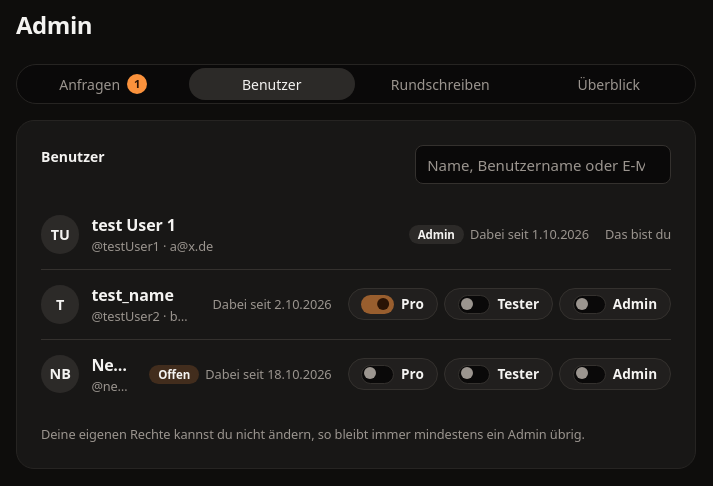
admin panel › makes someone a tester without asking
The width and height of the screenshot is (713, 486).
What coordinates should you click on to do the following:
click the switch labelled "Tester" in the row of "test_name"
I would click on:
 (498, 304)
Its box is [444,288,553,320].
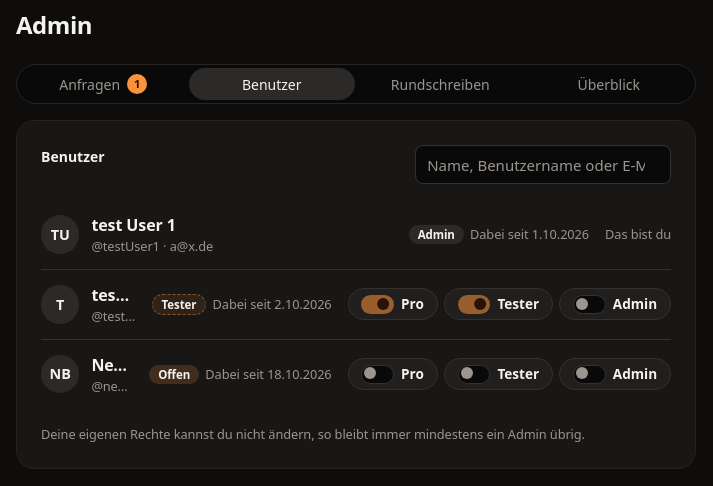
Result: the text "Tester" is shown at [152,294,206,315]
